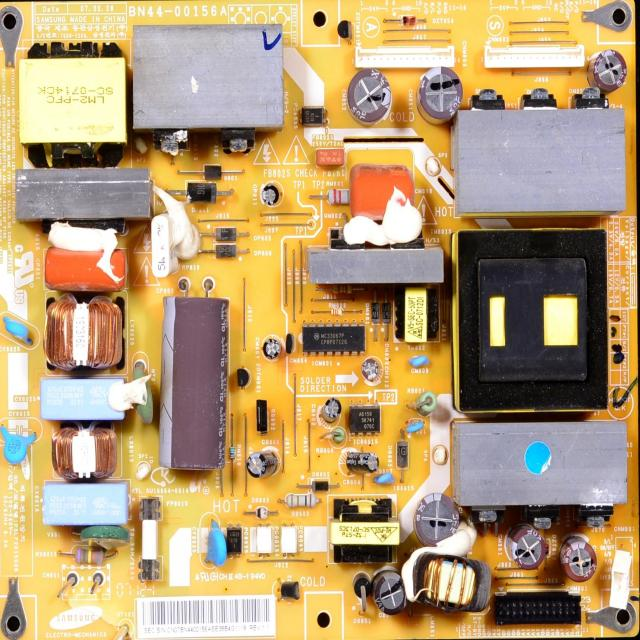Capacitor Jumper: (158, 294, 226, 474), (417, 67, 464, 123), (349, 67, 391, 127), (415, 495, 462, 545), (372, 568, 409, 617), (130, 363, 158, 425), (512, 525, 547, 571), (592, 49, 628, 93), (563, 538, 597, 584), (1, 422, 35, 468), (201, 514, 227, 569), (2, 315, 34, 351), (344, 448, 382, 476), (246, 449, 279, 478), (261, 334, 283, 362), (260, 184, 280, 206), (322, 398, 340, 422), (363, 359, 380, 381), (408, 416, 425, 438)
Connector: (494, 590, 582, 625), (485, 45, 584, 68), (354, 45, 454, 66), (63, 568, 108, 599)
IC: (304, 319, 366, 356), (349, 403, 381, 434)
Resistor Jumper: (57, 546, 119, 564), (307, 189, 359, 205), (278, 492, 323, 508), (416, 389, 438, 416), (310, 308, 364, 318)
